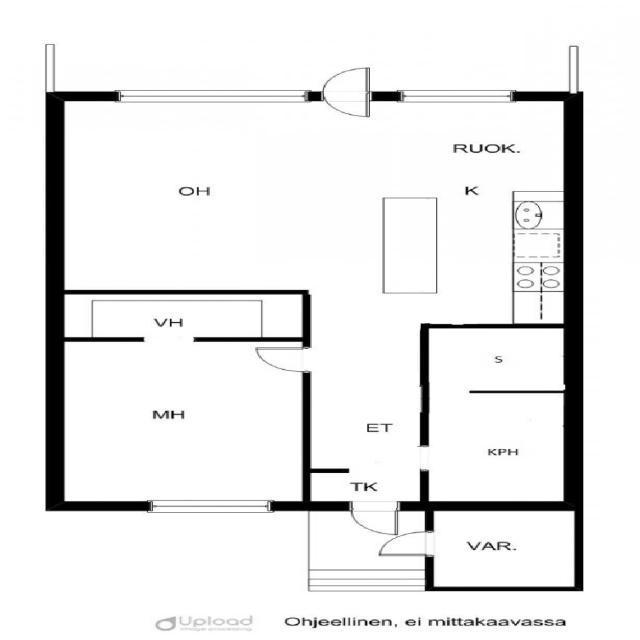door: (318, 66, 379, 122), (358, 443, 431, 478), (368, 528, 441, 562), (247, 342, 317, 375), (348, 499, 402, 536)
window: (106, 83, 316, 106), (131, 495, 284, 518), (391, 82, 529, 106)
zone: (36, 97, 437, 298), (371, 92, 568, 329), (54, 336, 306, 503), (424, 392, 573, 503), (428, 507, 581, 591), (52, 293, 308, 340), (422, 326, 573, 392)
